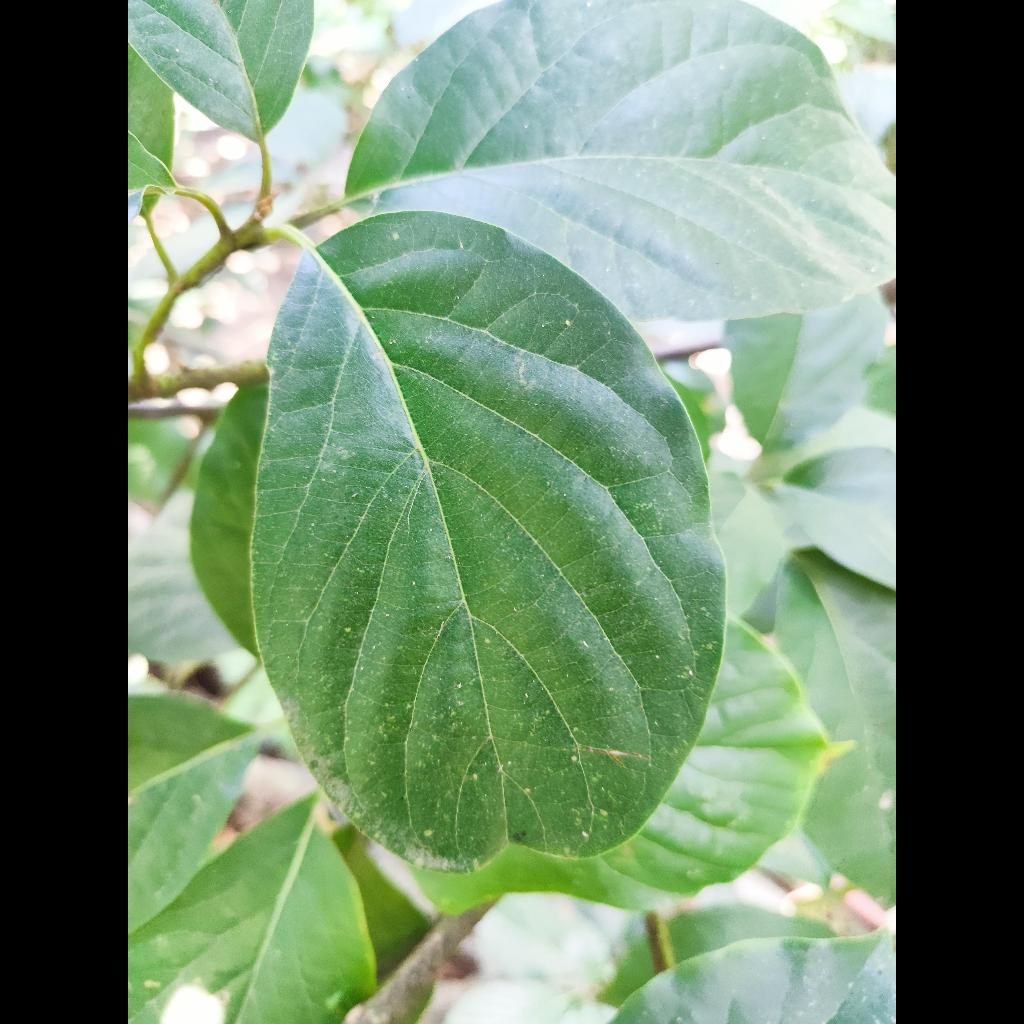hoja_sana: (253, 212, 724, 872)
